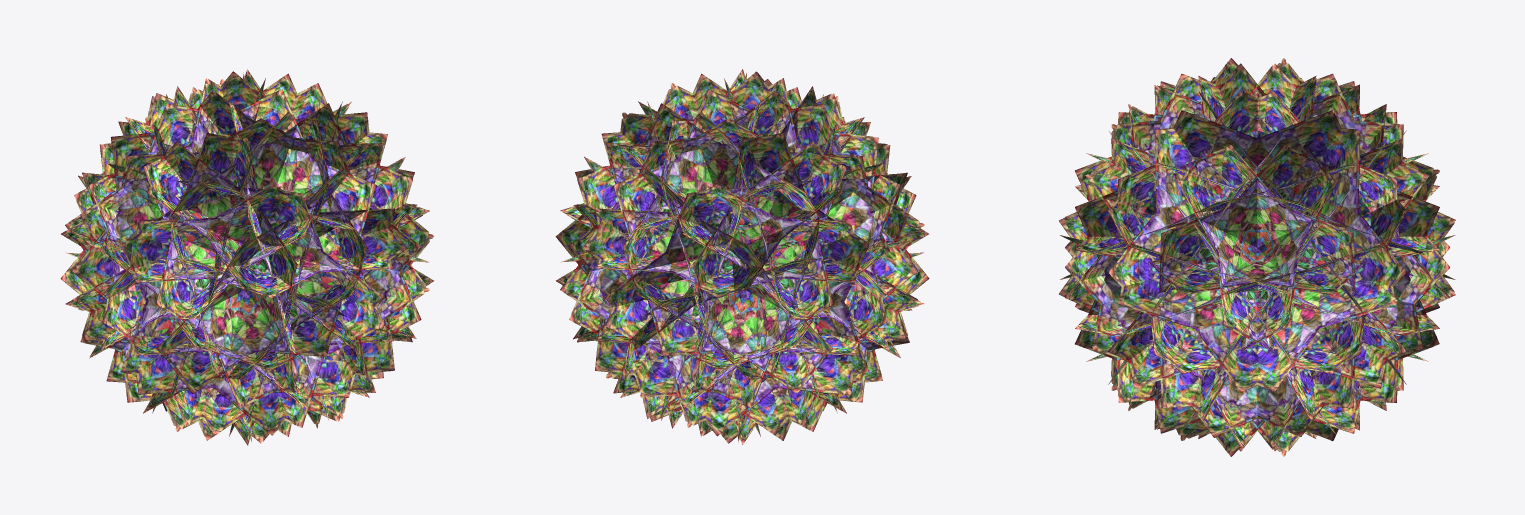
The model's file is 24GreatRhombidodecahedron.gltf.
The picture shows the model from 3 angles, left to right: view 1: azimuth 30°, elevation 25°; view 2: azimuth 150°, elevation 25°; view 3: azimuth 270°, elevation 25°; orthographic projection. The views are drawn at different scales.
Visible parts, largest first — view 1: 1GreatRhombidodecahedron; view 2: 1GreatRhombidodecahedron; view 3: 1GreatRhombidodecahedron.
Part boxes in pixels (box(x1,y1,x2,y2)): 1GreatRhombidodecahedron: box(60, 69, 433, 445); 1GreatRhombidodecahedron: box(555, 69, 929, 444); 1GreatRhombidodecahedron: box(1059, 58, 1455, 456).
Size of the model in its own units: 1.38 by 1.38 by 1.38.
Materials: 1 (1 with a texture image).
